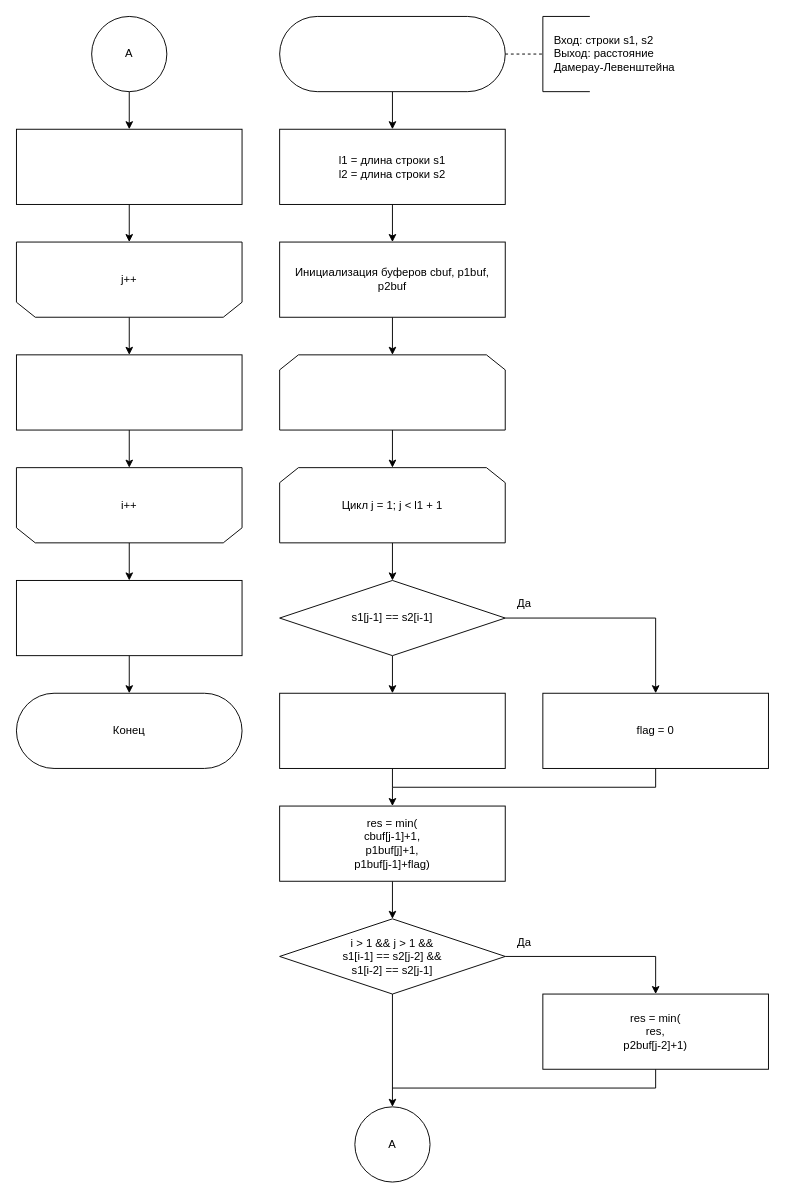
Image size: 785x1199. Some labels were removed from this diagram. Here are the shapes that lost their labels. From the top down, the box of each, then its label:
(279, 16, 505, 92): Начало
(16, 128, 242, 204): cbuf[j] = res
(16, 354, 242, 430): copy(p2buf, p1buf) copy(p1buf, cbuf)
(279, 354, 505, 430): Цикл i = 1; i < l2 + 1
(16, 580, 242, 656): return cbuf[l1]
(279, 692, 505, 768): flag = 1
